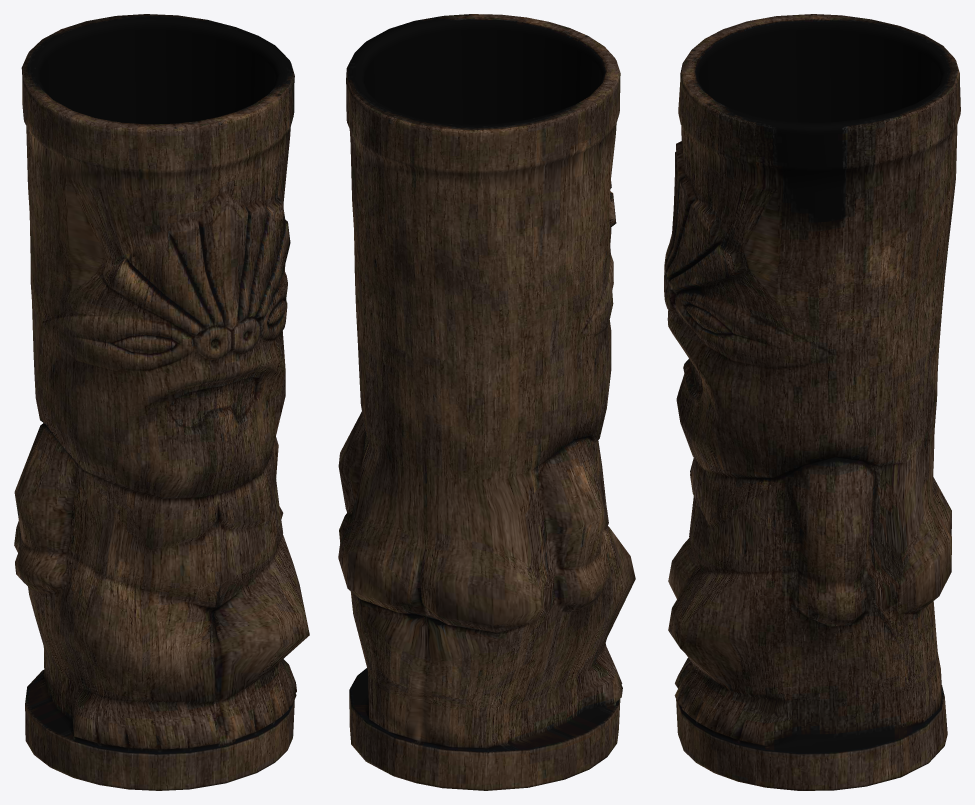
File: tikionly04.glb
The picture shows the model from 3 angles, left to right: view 1: azimuth 30°, elevation 25°; view 2: azimuth 150°, elevation 25°; view 3: azimuth 270°, elevation 25°; orthographic projection.
Visible parts, largest first — view 1: TIKI_green_glass.001; view 2: TIKI_green_glass.001; view 3: TIKI_green_glass.001.
Part boxes in pixels (x1=…): TIKI_green_glass.001: x1=14, y1=14, x2=309, y2=790; TIKI_green_glass.001: x1=338, y1=14, x2=635, y2=790; TIKI_green_glass.001: x1=664, y1=14, x2=960, y2=790.
Bounding box in the file's own units: 0.0628 × 0.1531 × 0.0621.
Materials: 1 (1 with a texture image).
